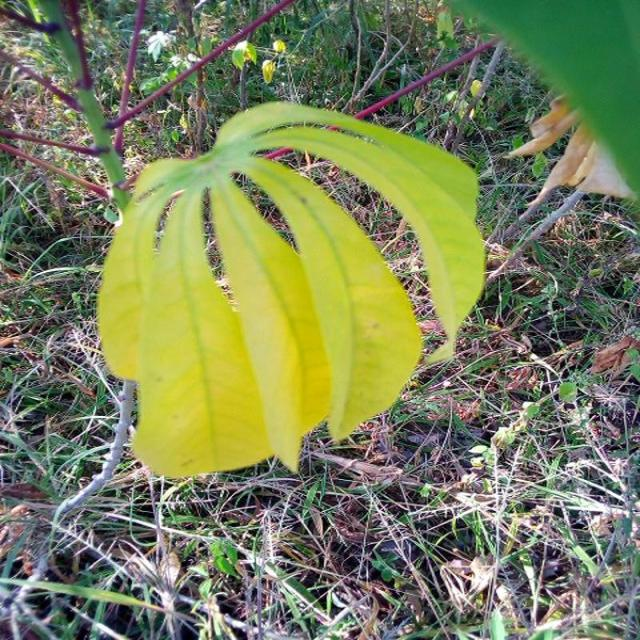cassava leaf: (95, 99, 486, 479)
